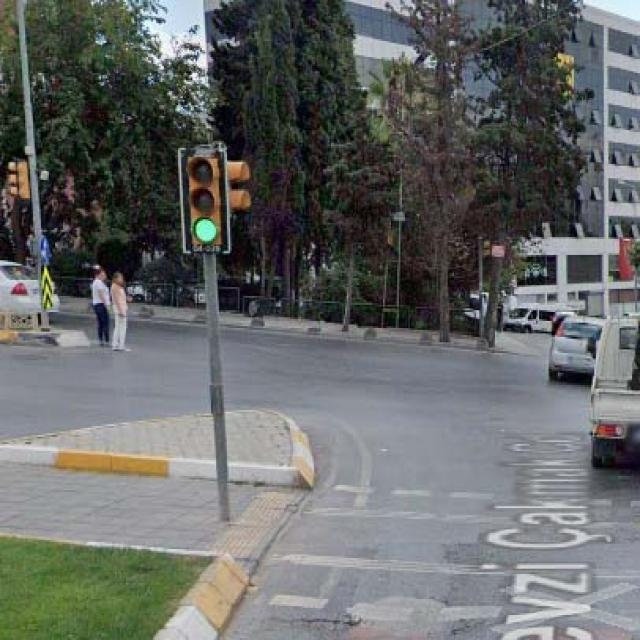yesil: (183, 146, 224, 250)
